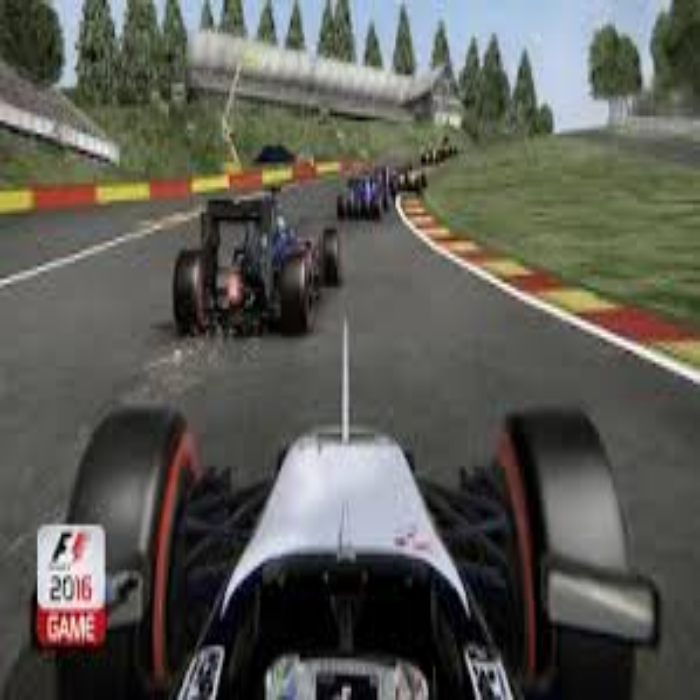f1_car: (55, 369, 656, 700), (165, 185, 346, 342), (333, 169, 405, 231)
